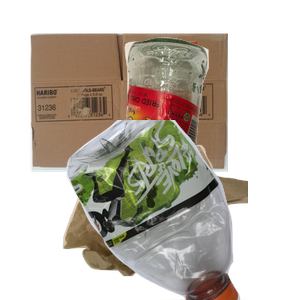cardboard: (28, 31, 249, 195)
glass: (112, 35, 300, 215)
plastic: (64, 120, 300, 300)
trash: (60, 142, 300, 300)
